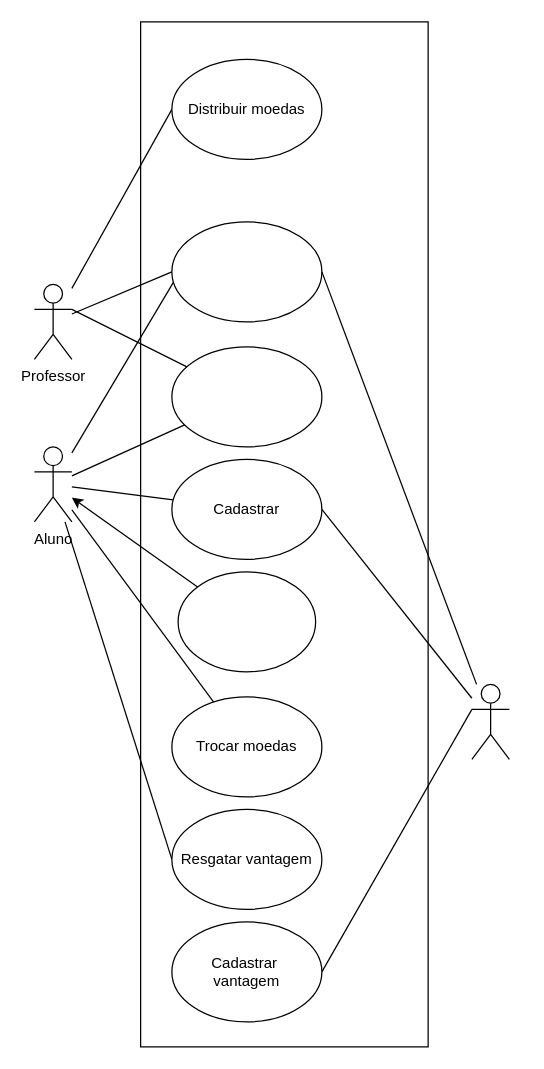
Some shapes in this 544 by 1069 pixel diagram are drawn without their labels. The shapes that lost their labels are listed below. From the top down, each one's box as (x1, y1, x2, y2) in pixels, then its label:
(171, 221, 322, 322): Login
(171, 346, 322, 447): Consultar extrato
(177, 571, 316, 672): Notificar recebimento de moedas
(471, 683, 509, 759): Empresa parceira
